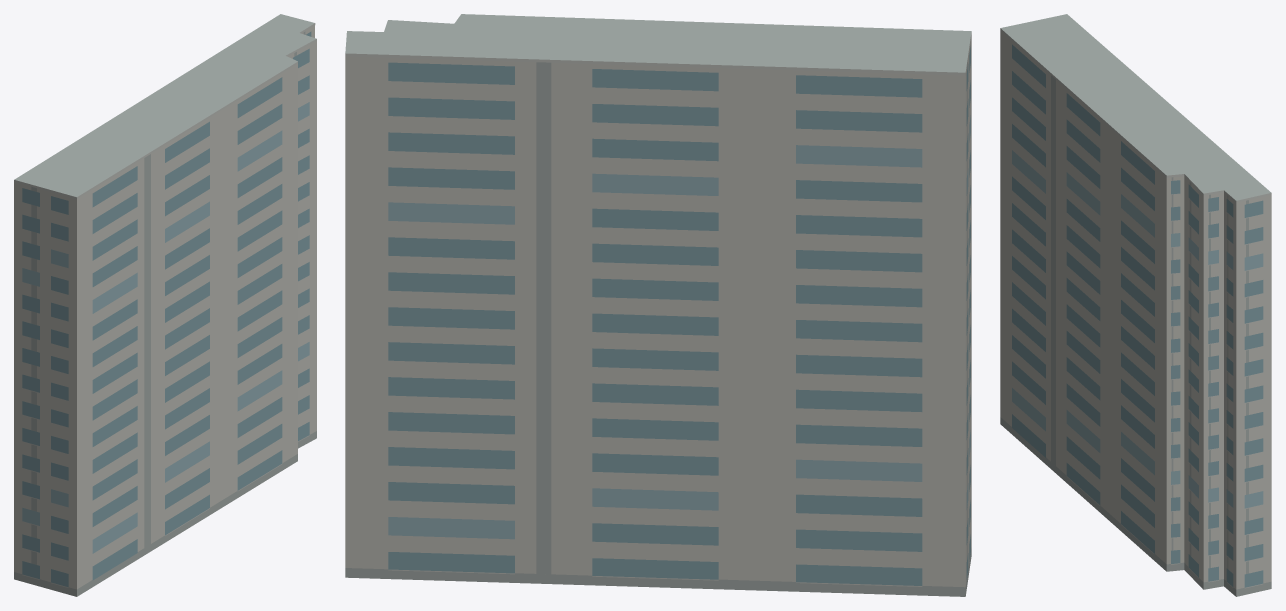
The model's file is survey-upis-32945316.glb.
The picture shows the model from 3 angles, left to right: view 1: azimuth 30°, elevation 25°; view 2: azimuth 150°, elevation 25°; view 3: azimuth 270°, elevation 25°; orthographic projection. The views are drawn at different scales.
Parts seen in each view (by area): view 1: survey-upis-32945316.tmp; view 2: survey-upis-32945316.tmp; view 3: survey-upis-32945316.tmp.
Part boxes in pixels (left/top/right/bottom): survey-upis-32945316.tmp: left=14, top=14, right=316, bottom=596; survey-upis-32945316.tmp: left=345, top=14, right=971, bottom=596; survey-upis-32945316.tmp: left=1000, top=14, right=1271, bottom=596.
Bounding box in the file's own units: 46.29 × 45.75 × 28.41.
